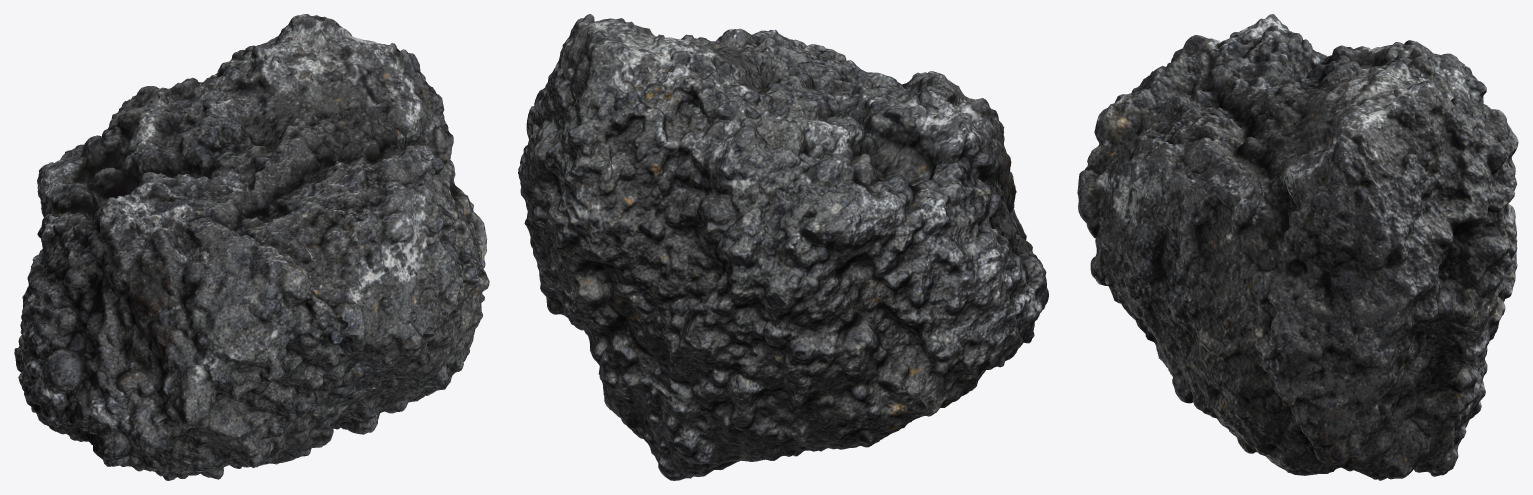
3 views of the same model, side by side, from view 1: azimuth 30°, elevation 25°; view 2: azimuth 150°, elevation 25°; view 3: azimuth 270°, elevation 25° (orthographic). The views are drawn at different scales.
Parts seen in each view (by area): view 1: MIL15307-0_SFM_Web-Resolution-Model_Coordinate-Unregistered.; view 2: MIL15307-0_SFM_Web-Resolution-Model_Coordinate-Unregistered.; view 3: MIL15307-0_SFM_Web-Resolution-Model_Coordinate-Unregistered..
Part boxes in pixels (<box>): MIL15307-0_SFM_Web-Resolution-Model_Coordinate-Unregistered.: <box>14,14,489,480</box>; MIL15307-0_SFM_Web-Resolution-Model_Coordinate-Unregistered.: <box>518,14,1048,480</box>; MIL15307-0_SFM_Web-Resolution-Model_Coordinate-Unregistered.: <box>1077,14,1518,480</box>.
Size of the model in its own units: 0.0364 by 0.031 by 0.029.
1 material, 1 textured.
